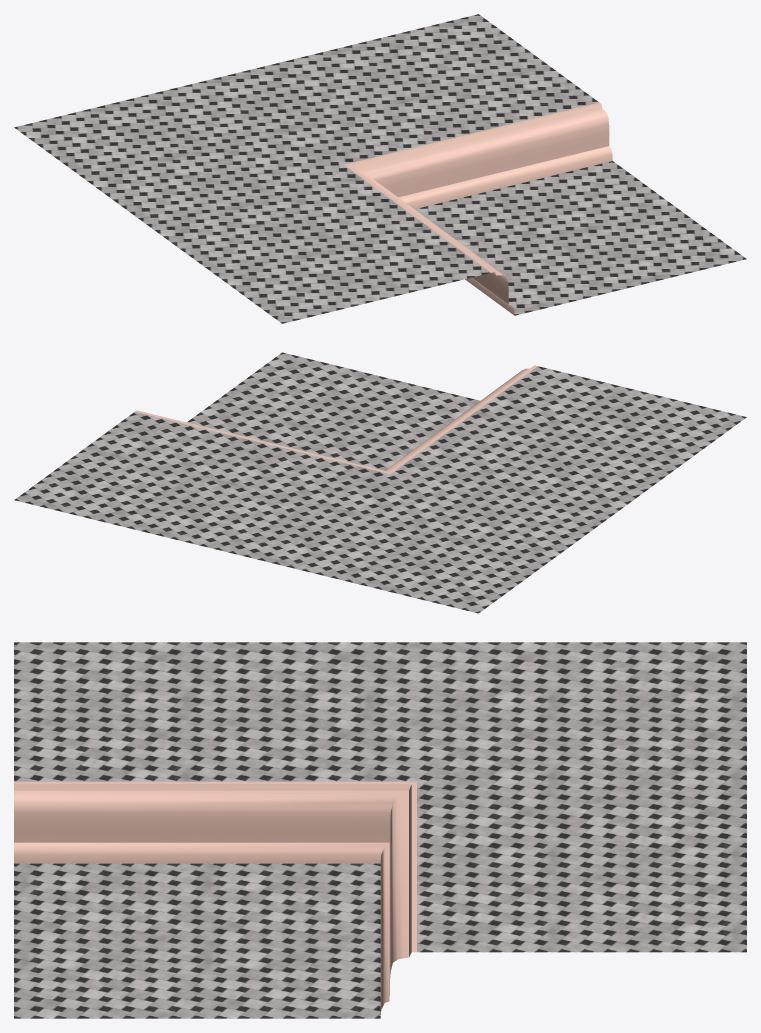
File: Shop_Floor_Step_Corner.fbx
3 renders of one model, top to bottom at view 1: azimuth 30°, elevation 25°; view 2: azimuth 150°, elevation 25°; view 3: azimuth 270°, elevation 25°, orthographic. The views are drawn at different scales.
Parts seen in each view (by area): view 1: Floor_Step_Corner; view 2: Floor_Step_Corner; view 3: Floor_Step_Corner.
Boxes of the visible parts, box(x1,y1,x2,y2) form: Floor_Step_Corner: box(14, 14, 746, 323); Floor_Step_Corner: box(14, 352, 746, 613); Floor_Step_Corner: box(14, 642, 746, 1018).
Bounding box in the file's own units: 100 × 10 × 100.
